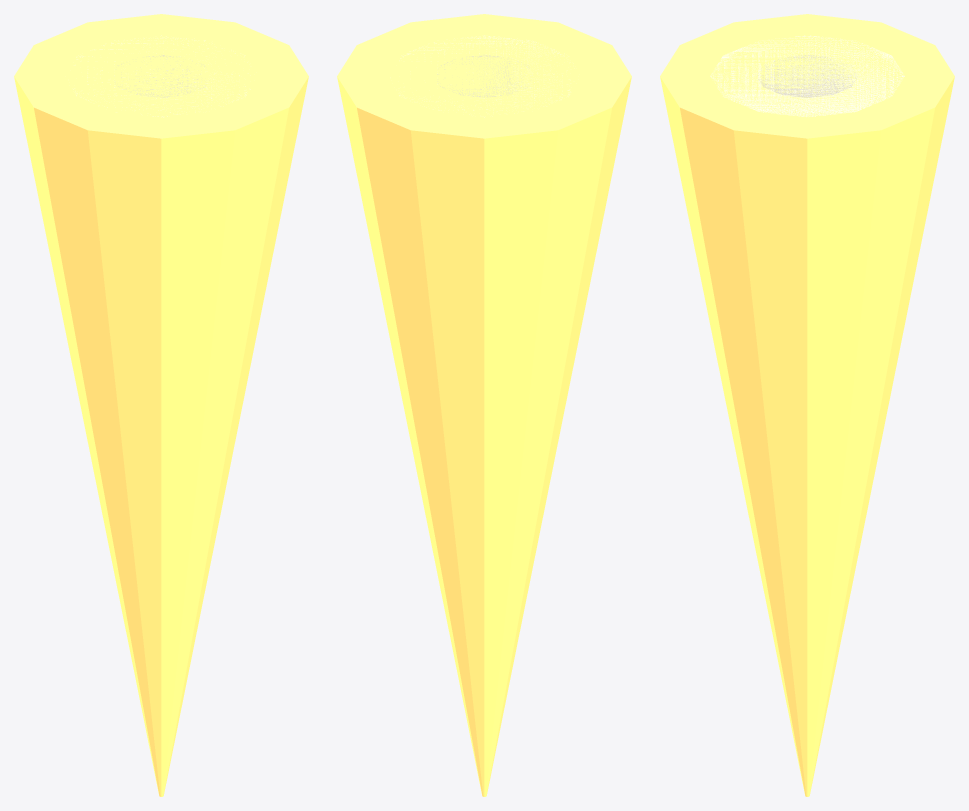
Rendered from orb4_gag_flame.glb.
The picture shows the model from 3 angles, left to right: view 1: azimuth 30°, elevation 25°; view 2: azimuth 150°, elevation 25°; view 3: azimuth 270°, elevation 25°; orthographic projection.
Visible parts, largest first — view 1: orb4_gag_flame__orb4-flame-apricot; view 2: orb4_gag_flame__orb4-flame-apricot, orb4_gag_flame__orb4-warm-lamp; view 3: orb4_gag_flame__orb4-flame-apricot, orb4_gag_flame__orb4-warm-lamp, orb4_gag_flame__orb3-foam-cream.
Boxes of the visible parts, left/top/right/bottom form: orb4_gag_flame__orb4-flame-apricot: left=14, top=14, right=308, bottom=796; orb4_gag_flame__orb4-flame-apricot: left=337, top=14, right=631, bottom=796; orb4_gag_flame__orb4-warm-lamp: left=390, top=35, right=574, bottom=117; orb4_gag_flame__orb4-flame-apricot: left=660, top=14, right=954, bottom=796; orb4_gag_flame__orb4-warm-lamp: left=710, top=35, right=904, bottom=116; orb4_gag_flame__orb3-foam-cream: left=758, top=55, right=856, bottom=97.
Size of the model in its own units: 2.6 by 7 by 2.6.
